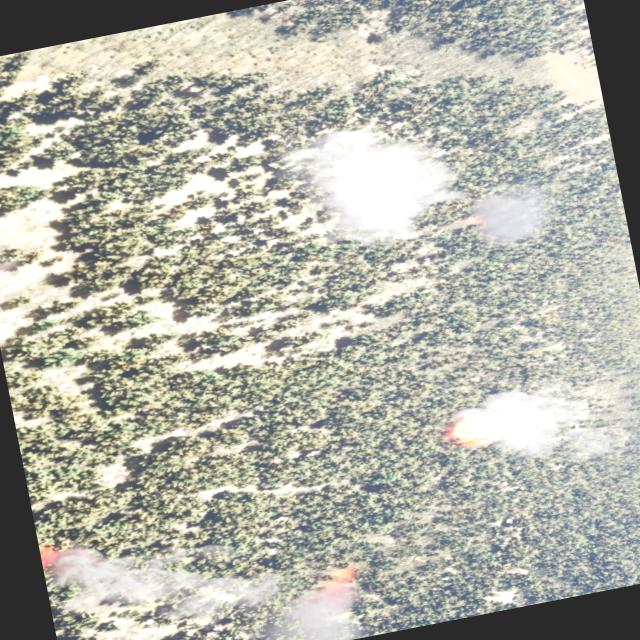fire: (320, 560, 370, 599), (440, 417, 480, 449), (458, 208, 494, 238)
smoke: (39, 507, 273, 640), (276, 108, 472, 266), (456, 372, 604, 485), (254, 556, 373, 640), (482, 184, 550, 248)
